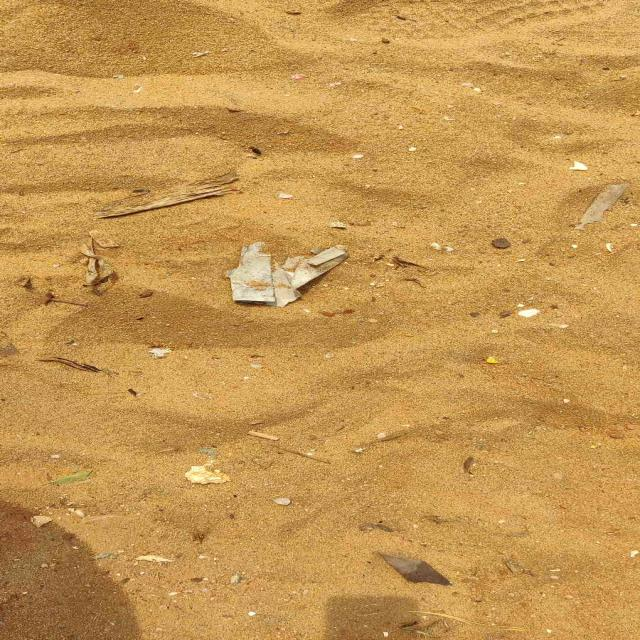giay: (225, 242, 346, 306)
